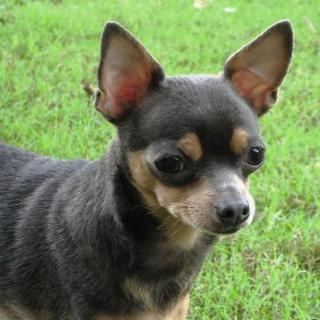dog: (86, 25, 311, 242)
nose: (208, 193, 255, 230)
